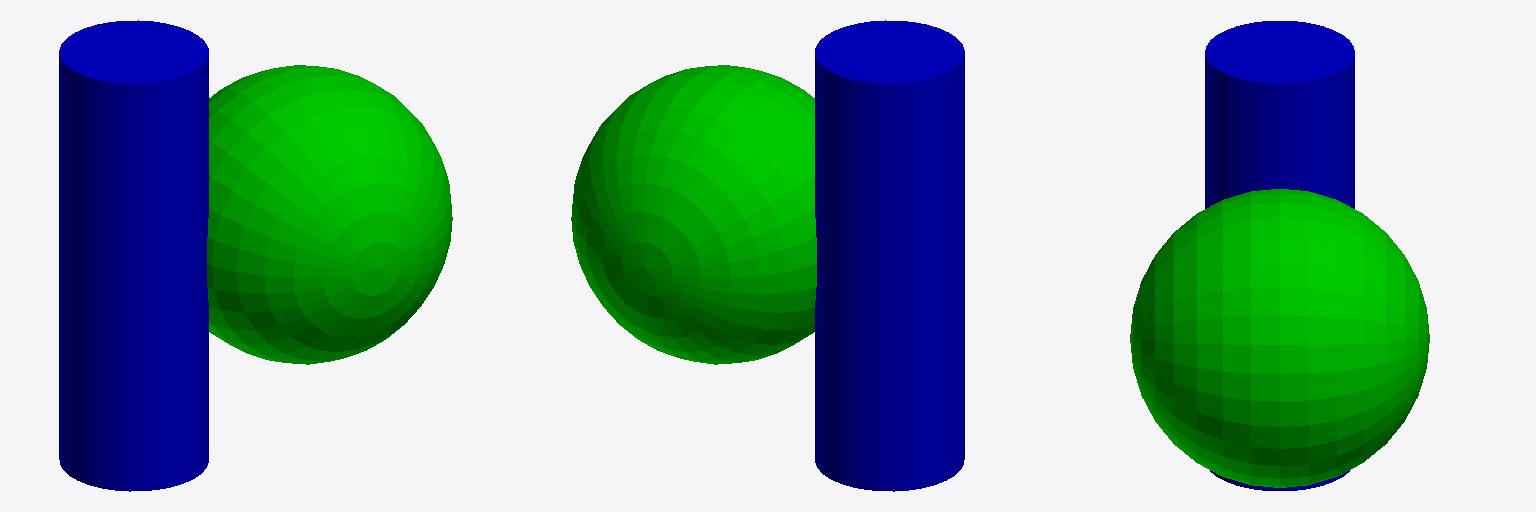
The robot description file, URDF, robot "A_vs_B":
<?xml version="1.0"?>
<robot name="A_vs_B">
  <material name="blue">
    <color rgba="0 0 0.8 .5"/>
  </material>
  <material name="green">
    <color rgba="0 0.8 0 .5"/>
  </material>
  <link name="A">
    <visual>
      <geometry>
        <cylinder radius=".5" length="3" />
      </geometry>
      <origin rpy="0.0 0 0" xyz="-0.4 0 0"/>
      <material name="blue"/>
    </visual>
  </link>
  <link name="B">
    <visual>
      <geometry>
        <mesh filename="package://exotica_examples/tests/resources/uvsphere.obj"/>
      </geometry>
      <origin rpy="0 0 0" xyz="0.9 0 0"/>
      <material name="green"/>
    </visual>
  </link>
  <joint name="joint1" type="revolute">
    <axis xyz="0 0 1"/>
    <limit effort="1" lower="-1" upper="1" velocity="1"/>
    <origin rpy="0 0 0" xyz="0 0 0"/>
    <parent link="A"/>
    <child link="B"/>
  </joint>
</robot>

--- Facts derived from the render (not from the file) ---
3 views of the same robot in one strip: view 1: azimuth 30°, elevation 25°; view 2: azimuth 150°, elevation 25°; view 3: azimuth 270°, elevation 25° (orthographic).
Model A_vs_B with 2 links and 1 joints (1 revolute), rooted at A, posed every joint at zero.
Links seen in each view (by area): view 1: A, B; view 2: A, B; view 3: B, A.
Boxes of the visible links, <box> form: A: <box>59,20,208,491</box>; B: <box>207,65,452,364</box>; A: <box>815,20,964,491</box>; B: <box>571,65,816,364</box>; B: <box>1130,189,1429,487</box>; A: <box>1205,21,1354,490</box>.
Bounding box of the posed robot: 2.8 × 2 × 3 m (x, y, z).
1 mesh visuals loaded from 1 distinct referenced files (1 OBJ).